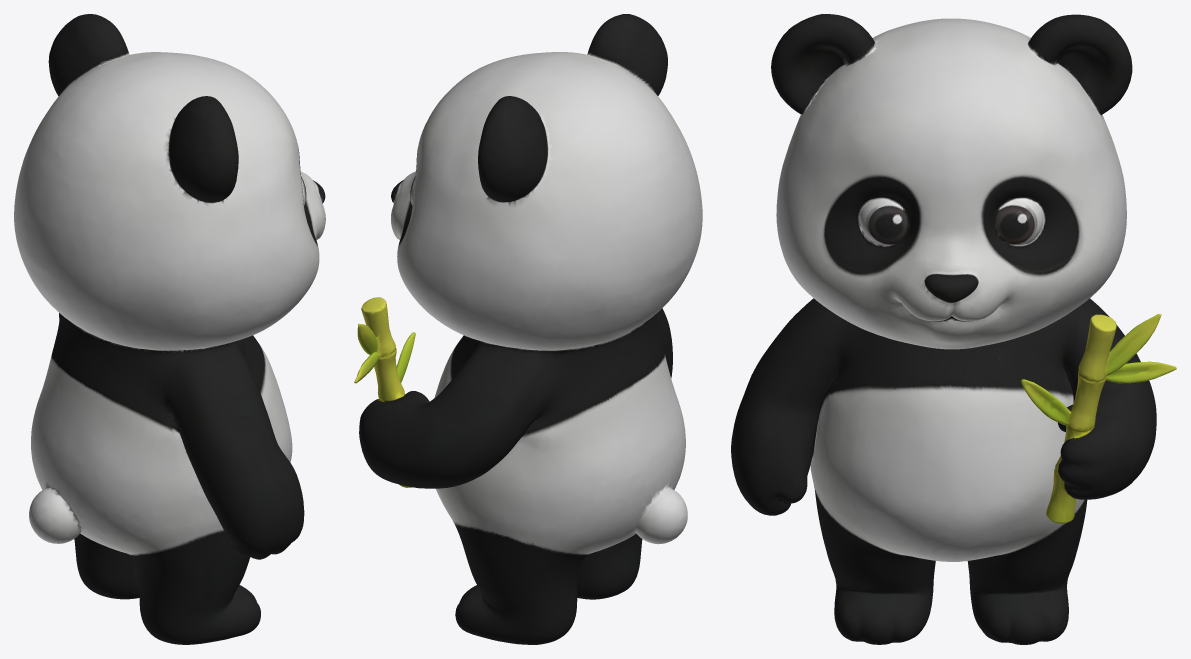
File: truc.glb
The picture shows the model from 3 angles, left to right: view 1: azimuth 30°, elevation 25°; view 2: azimuth 150°, elevation 25°; view 3: azimuth 270°, elevation 25°; orthographic projection. The views are drawn at different scales.
Visible parts, largest first — view 1: tripo_node_49de141a-b933-4948-a90e-61079340fe95; view 2: tripo_node_49de141a-b933-4948-a90e-61079340fe95; view 3: tripo_node_49de141a-b933-4948-a90e-61079340fe95.
Part boxes in pixels (left/top/right/bottom): tripo_node_49de141a-b933-4948-a90e-61079340fe95: left=14, top=14, right=325, bottom=644; tripo_node_49de141a-b933-4948-a90e-61079340fe95: left=354, top=14, right=702, bottom=644; tripo_node_49de141a-b933-4948-a90e-61079340fe95: left=731, top=14, right=1176, bottom=644.
Size of the model in its own units: 0.5471 by 1 by 0.6755.
Materials: 1 (1 with a texture image).
